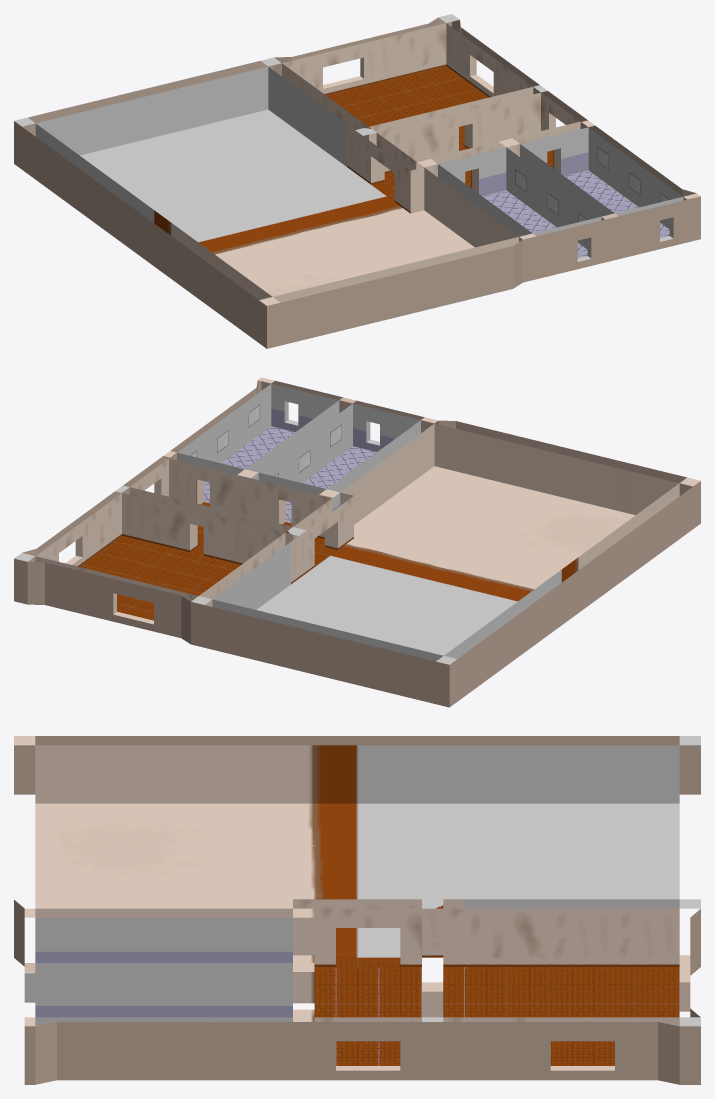
The model's file is dorms.glb.
The picture shows the model from 3 angles, top to bottom: view 1: azimuth 30°, elevation 25°; view 2: azimuth 150°, elevation 25°; view 3: azimuth 270°, elevation 25°; orthographic projection. The views are drawn at different scales.
Parts seen in each view (by area): view 1: Dorms; view 2: Dorms; view 3: Dorms.
Part boxes in pixels (box(x1,y1,x2,y2)): Dorms: box(14, 14, 700, 348); Dorms: box(14, 377, 700, 707); Dorms: box(14, 736, 700, 1084).
Size of the model in its own units: 32 by 3.01 by 32.
Materials: 1 (1 with a texture image).
